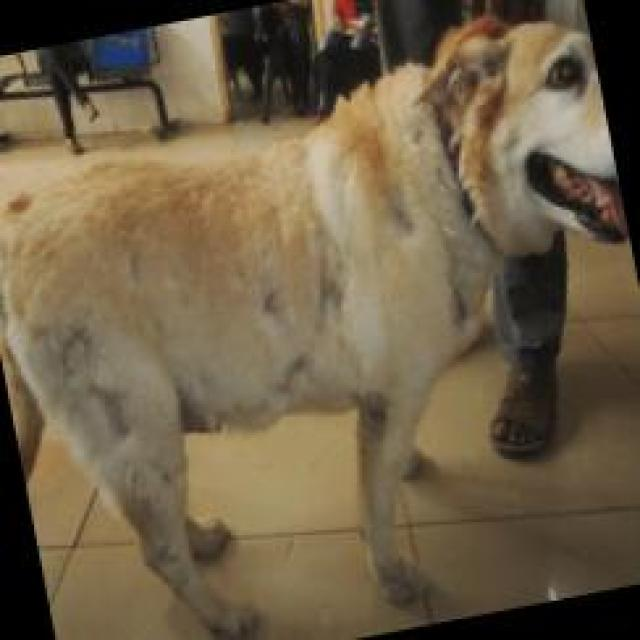fungal infection: (35, 316, 108, 385), (309, 249, 357, 332), (88, 382, 142, 436), (360, 380, 400, 440), (440, 278, 482, 334), (377, 200, 426, 244), (242, 282, 294, 322), (111, 488, 157, 529), (278, 355, 323, 393), (141, 531, 184, 568), (6, 189, 45, 222), (150, 462, 183, 497)
